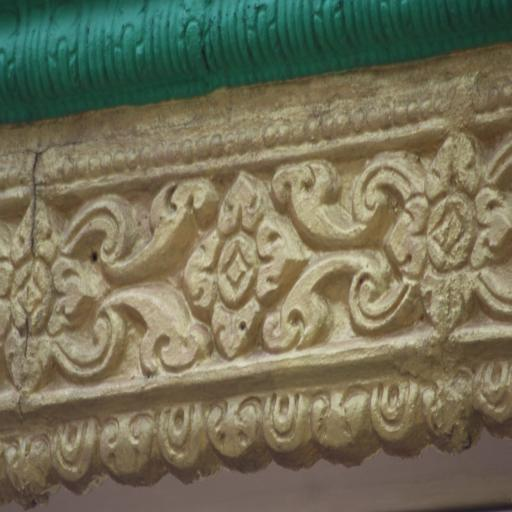hoa: (399, 138, 504, 323), (194, 172, 292, 362), (0, 204, 90, 386)
la: (70, 172, 202, 389), (281, 165, 412, 335)
